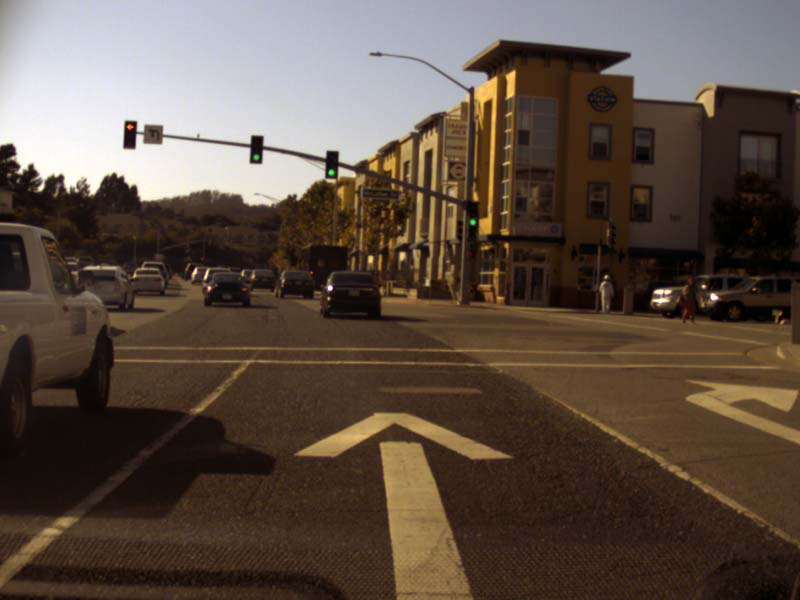Green: (326, 151, 337, 178), (251, 135, 261, 163), (467, 202, 477, 229)
Red: (124, 121, 135, 148)
